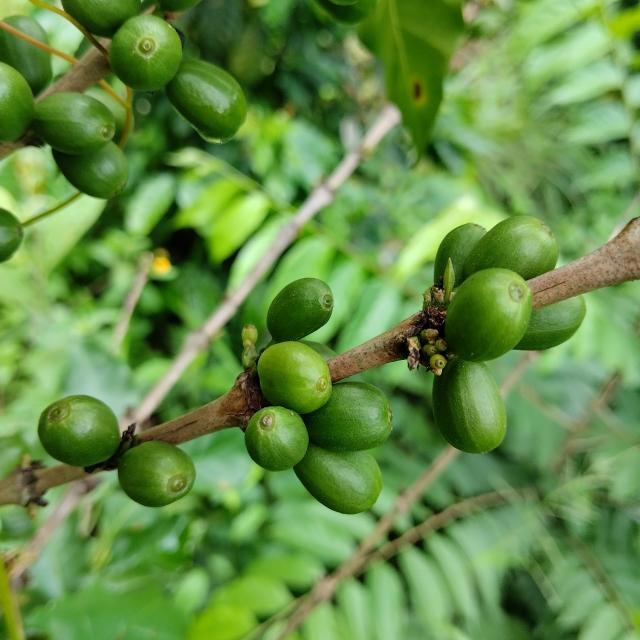green: (445, 268, 533, 362), (433, 358, 507, 454), (165, 59, 246, 143), (294, 443, 383, 515), (302, 382, 393, 452), (465, 215, 559, 280), (37, 395, 120, 467), (109, 14, 182, 90), (258, 341, 332, 415), (30, 92, 115, 155), (117, 441, 195, 508), (51, 140, 128, 199), (266, 278, 334, 343), (245, 407, 308, 472), (514, 295, 587, 351), (434, 222, 487, 287), (0, 27, 51, 94), (60, 0, 140, 37), (0, 61, 34, 142), (3, 14, 48, 43), (0, 208, 22, 262), (298, 340, 336, 361)
